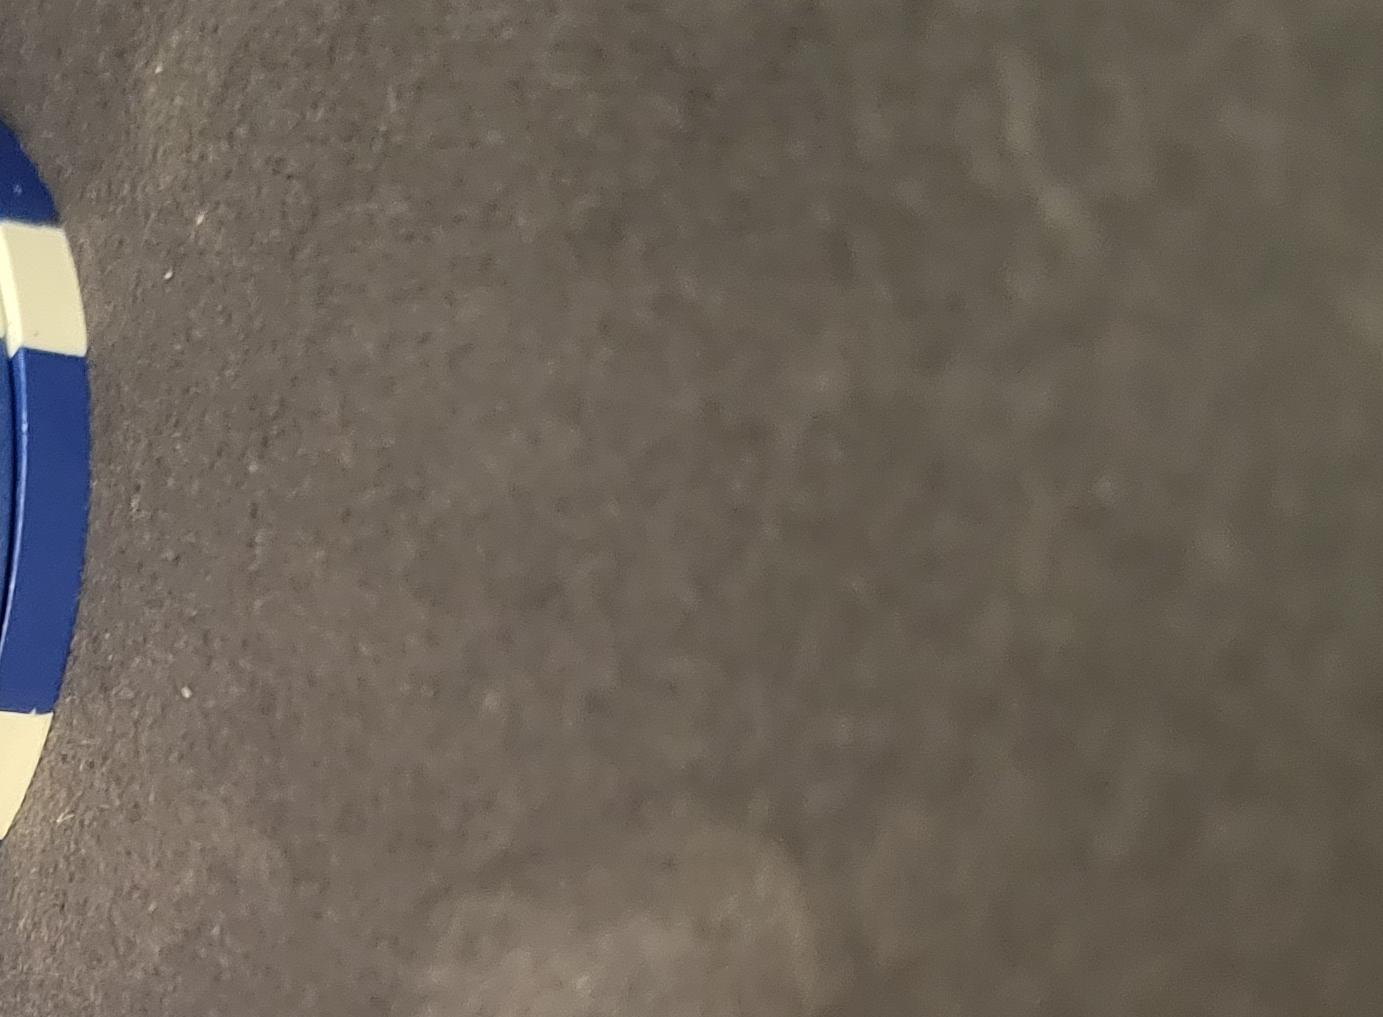Chip: (1, 202, 549, 1017)
